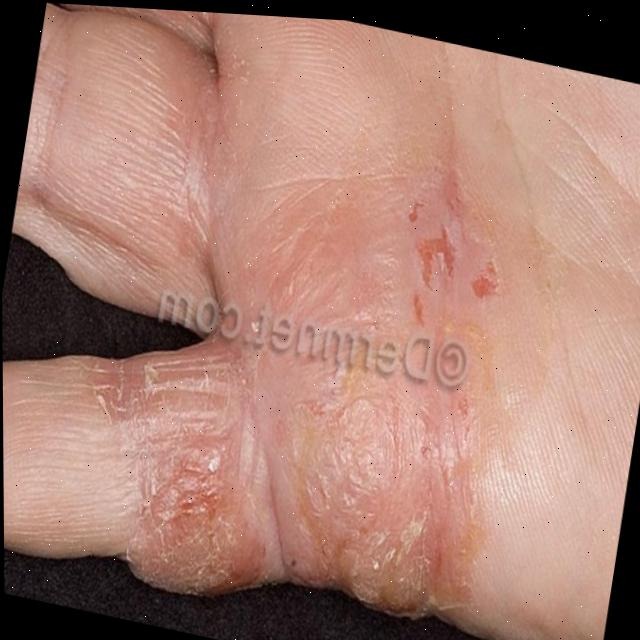Eczema: (57, 142, 536, 640)
